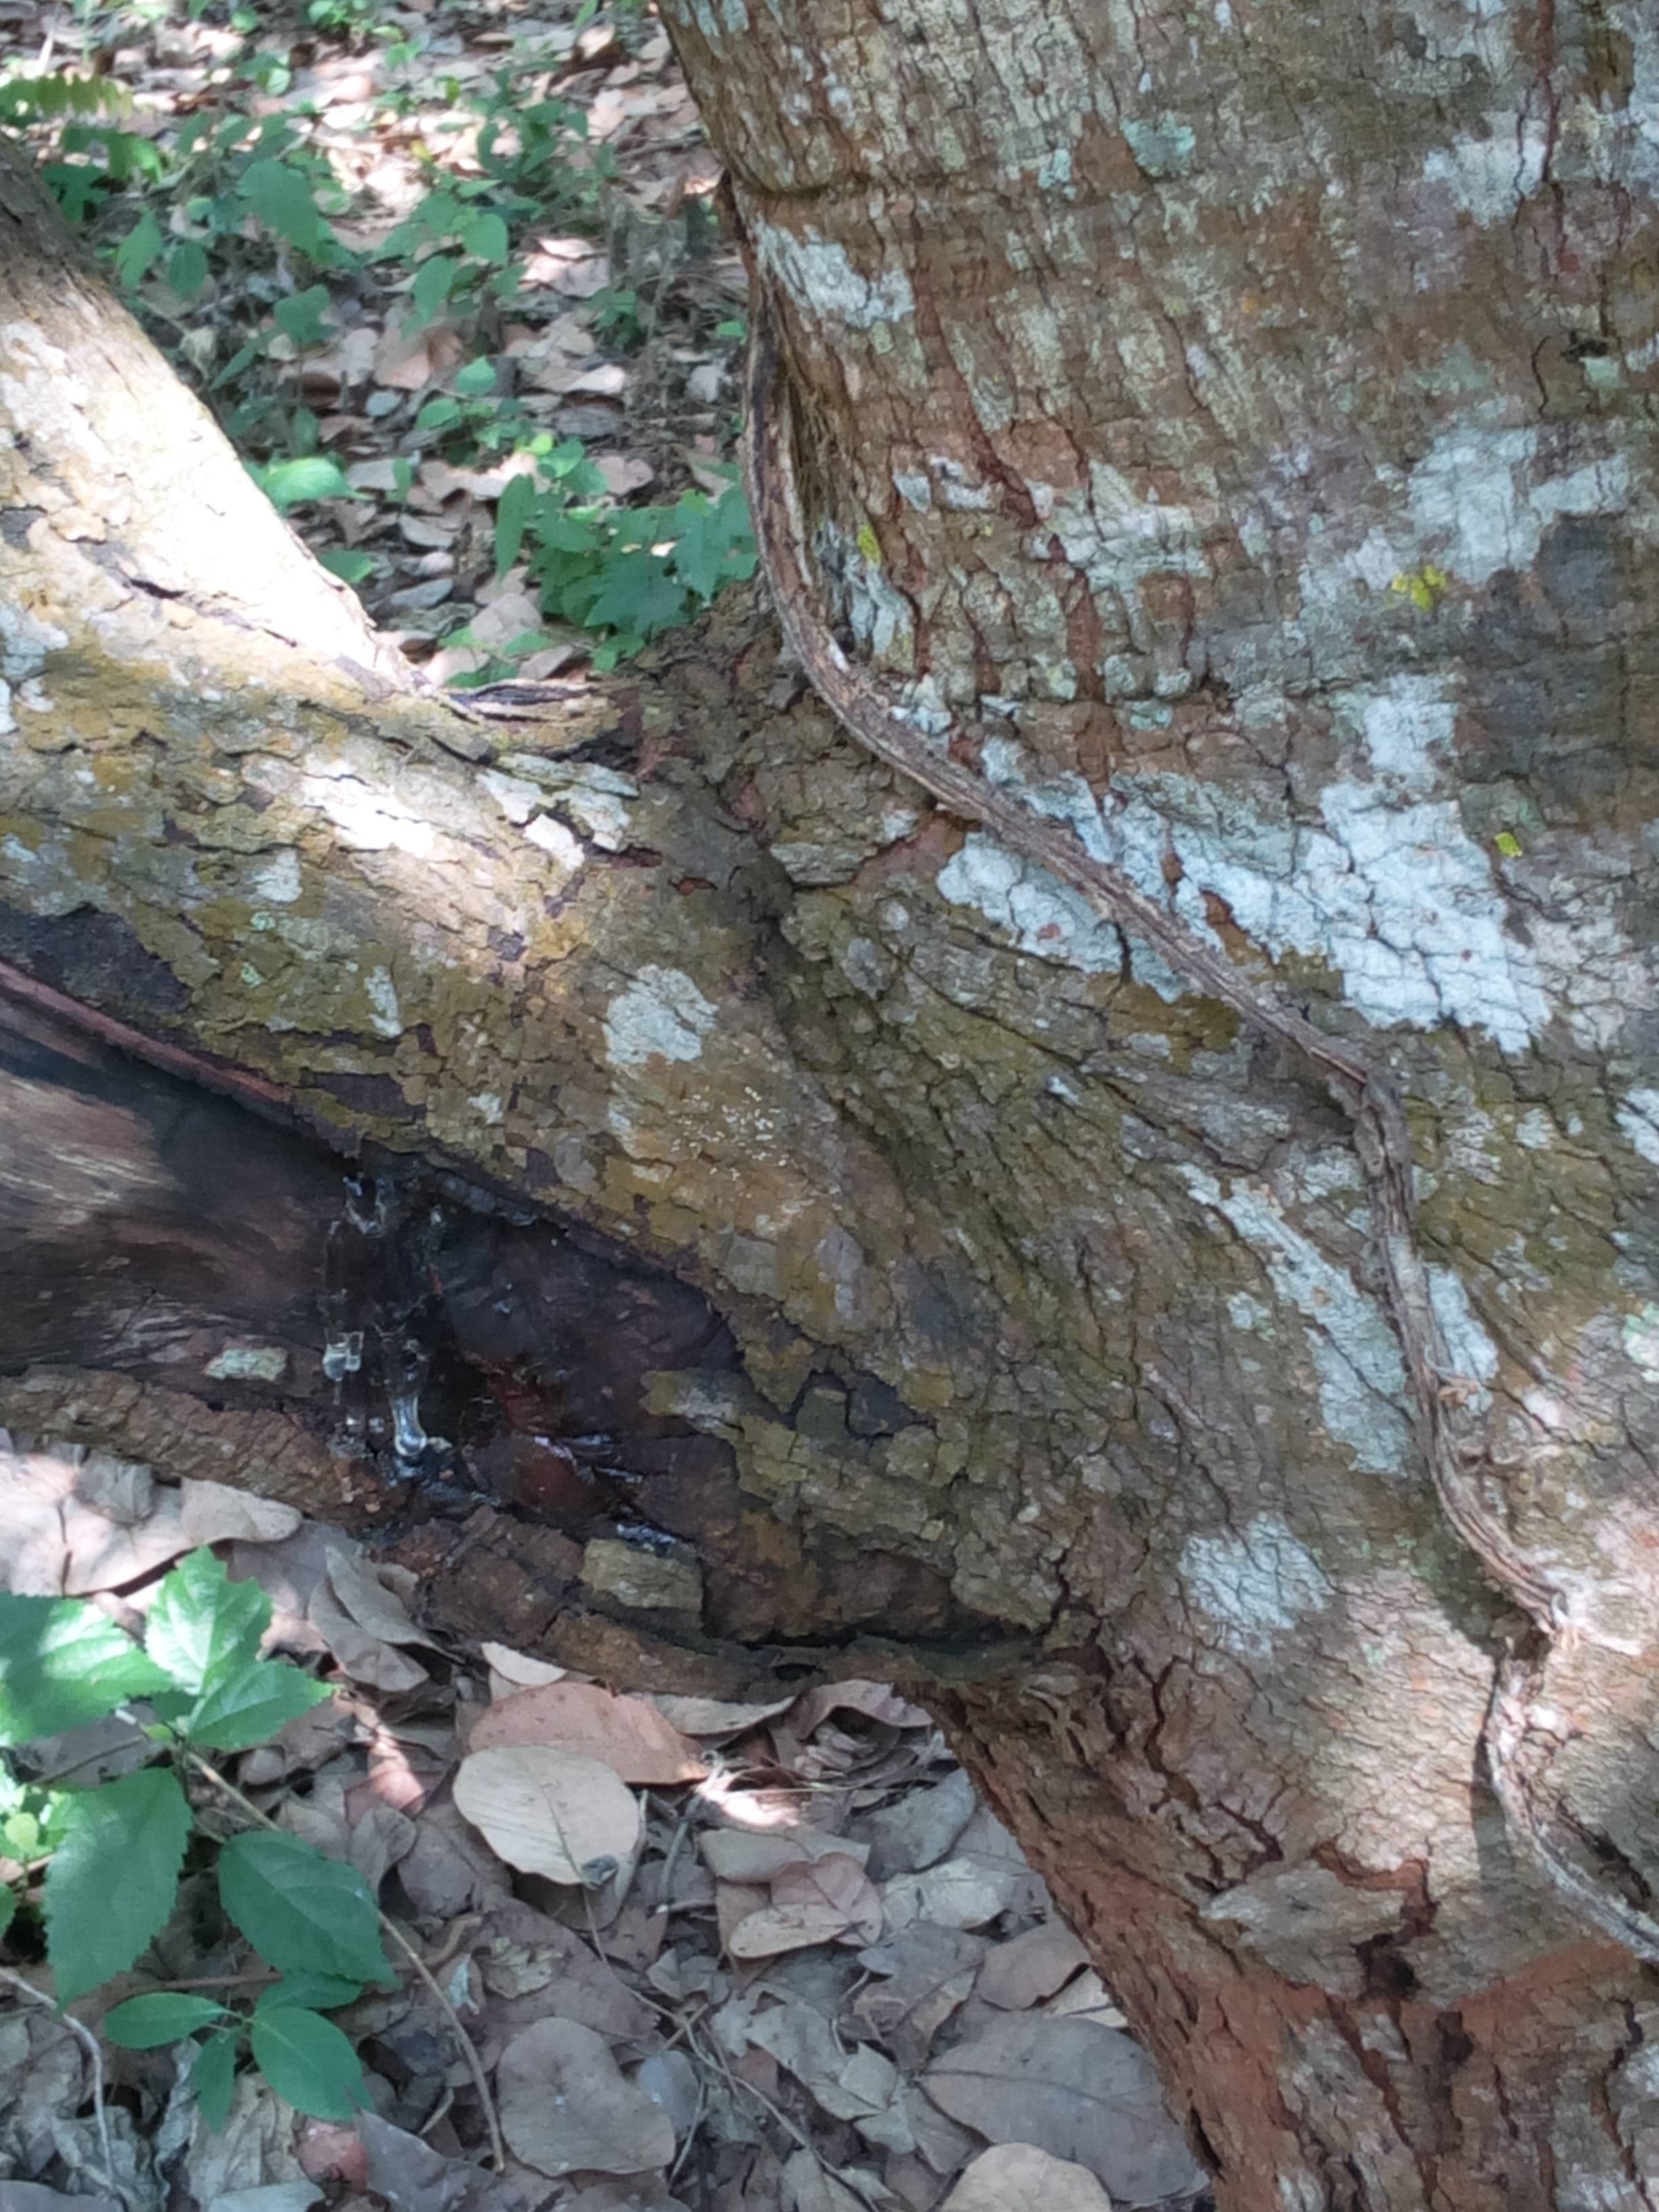Gommose: (12, 981, 739, 1561)
